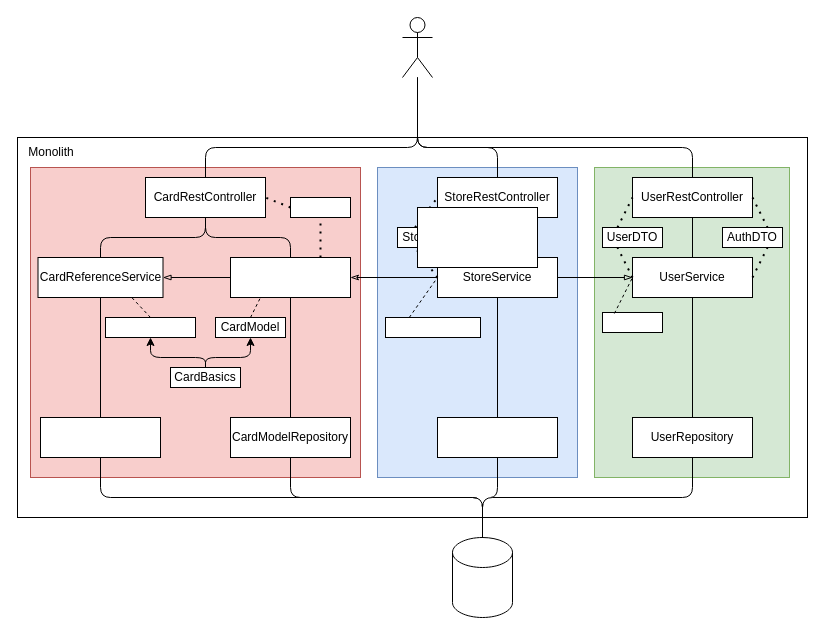
The diagram is 825 pixels wide and 635 high, and some of its shapes have lost their labels. Each missing label, with the centre of its shape:
CardDTO: point 320,207
CardModelService: point 290,277
CardReference: point 150,327
CardRefRepository: point 100,437
StoreRepository: point 497,437
StoreTransaction: point 432,327
UserModel: point 632,322
